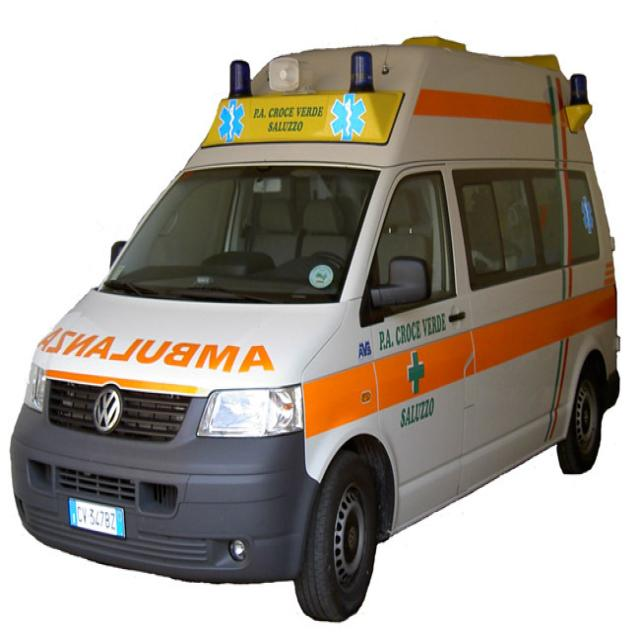emergency-vehicle: (11, 142, 620, 621)
